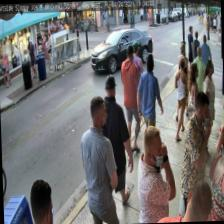person: (95, 72, 135, 204), (134, 52, 164, 144), (119, 44, 142, 152), (156, 180, 214, 222), (127, 40, 146, 131), (172, 56, 190, 140), (172, 42, 190, 119), (192, 46, 206, 102), (198, 34, 212, 84), (192, 30, 202, 67)
